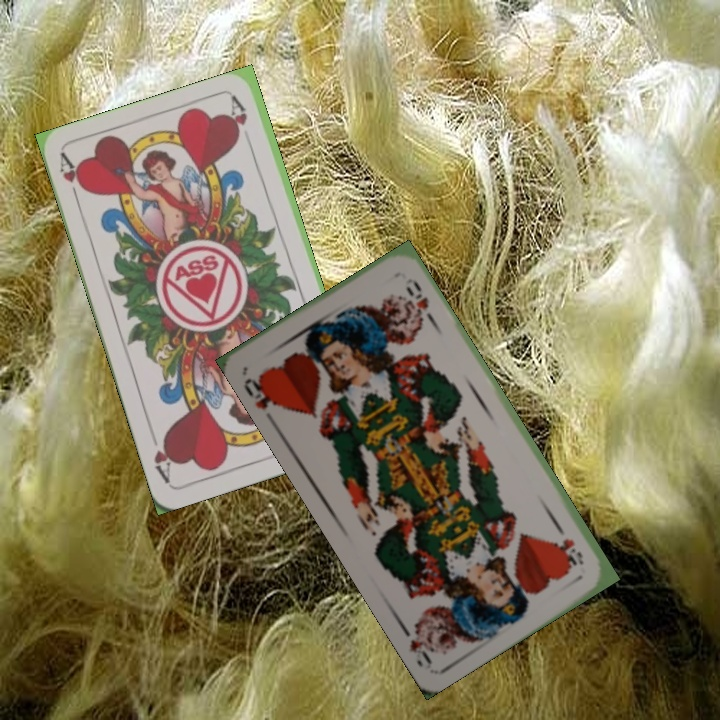HA: (55, 151, 89, 209)
HO: (239, 370, 286, 414), (550, 518, 587, 568)
